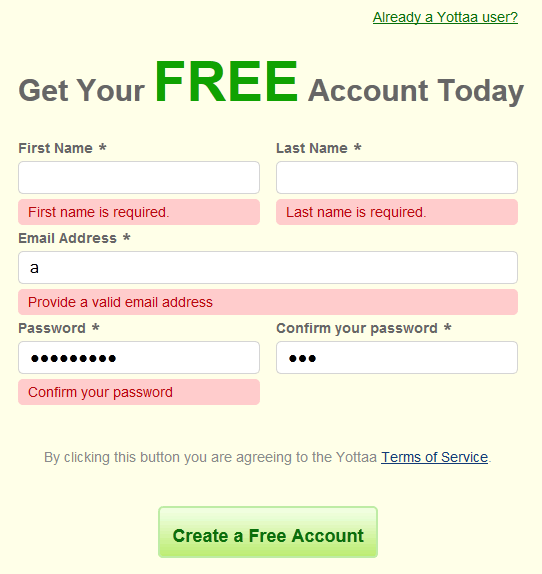error_message: (27, 295, 214, 310), (27, 203, 170, 220), (27, 386, 175, 400), (287, 205, 427, 218)
